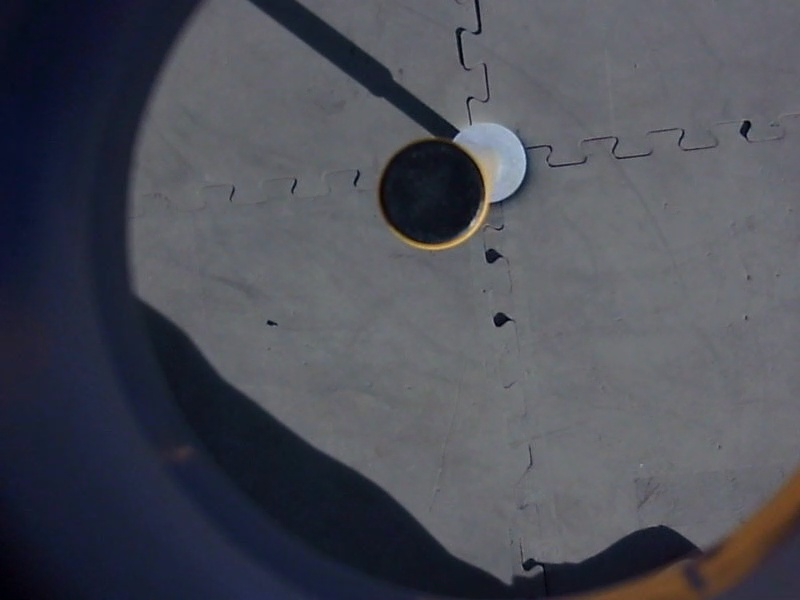tip: (371, 133, 495, 260)
